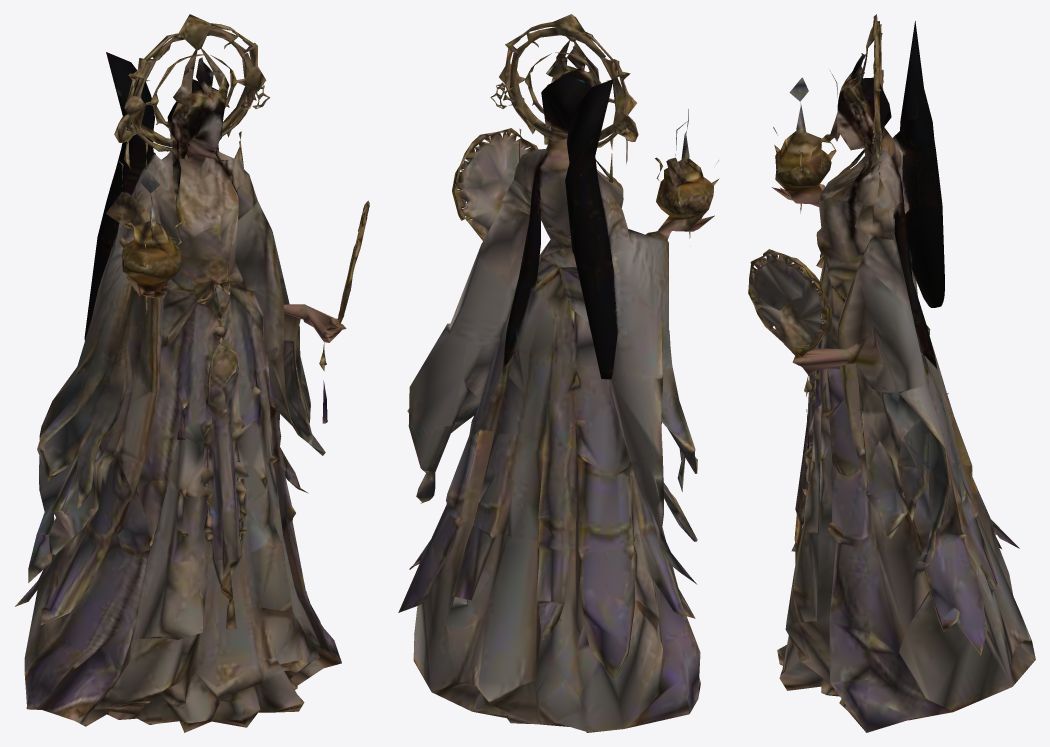
The model's file is mob_huxiang.glb.
3 renders of one model, left to right at view 1: azimuth 30°, elevation 25°; view 2: azimuth 150°, elevation 25°; view 3: azimuth 270°, elevation 25°, orthographic. The views are drawn at different scales.
Parts seen in each view (by area): view 1: tripo_node_2cb3baae-7dcc-4bda-b8bc-93f96d941ff2; view 2: tripo_node_2cb3baae-7dcc-4bda-b8bc-93f96d941ff2; view 3: tripo_node_2cb3baae-7dcc-4bda-b8bc-93f96d941ff2.
Part boxes in pixels (bbox=[...]): tripo_node_2cb3baae-7dcc-4bda-b8bc-93f96d941ff2: bbox=[15, 14, 369, 732]; tripo_node_2cb3baae-7dcc-4bda-b8bc-93f96d941ff2: bbox=[398, 14, 719, 732]; tripo_node_2cb3baae-7dcc-4bda-b8bc-93f96d941ff2: bbox=[748, 14, 1035, 732].
Size of the model in its own units: 0.4403 by 0.973 by 0.3902.
Materials: 1 (1 with a texture image).
